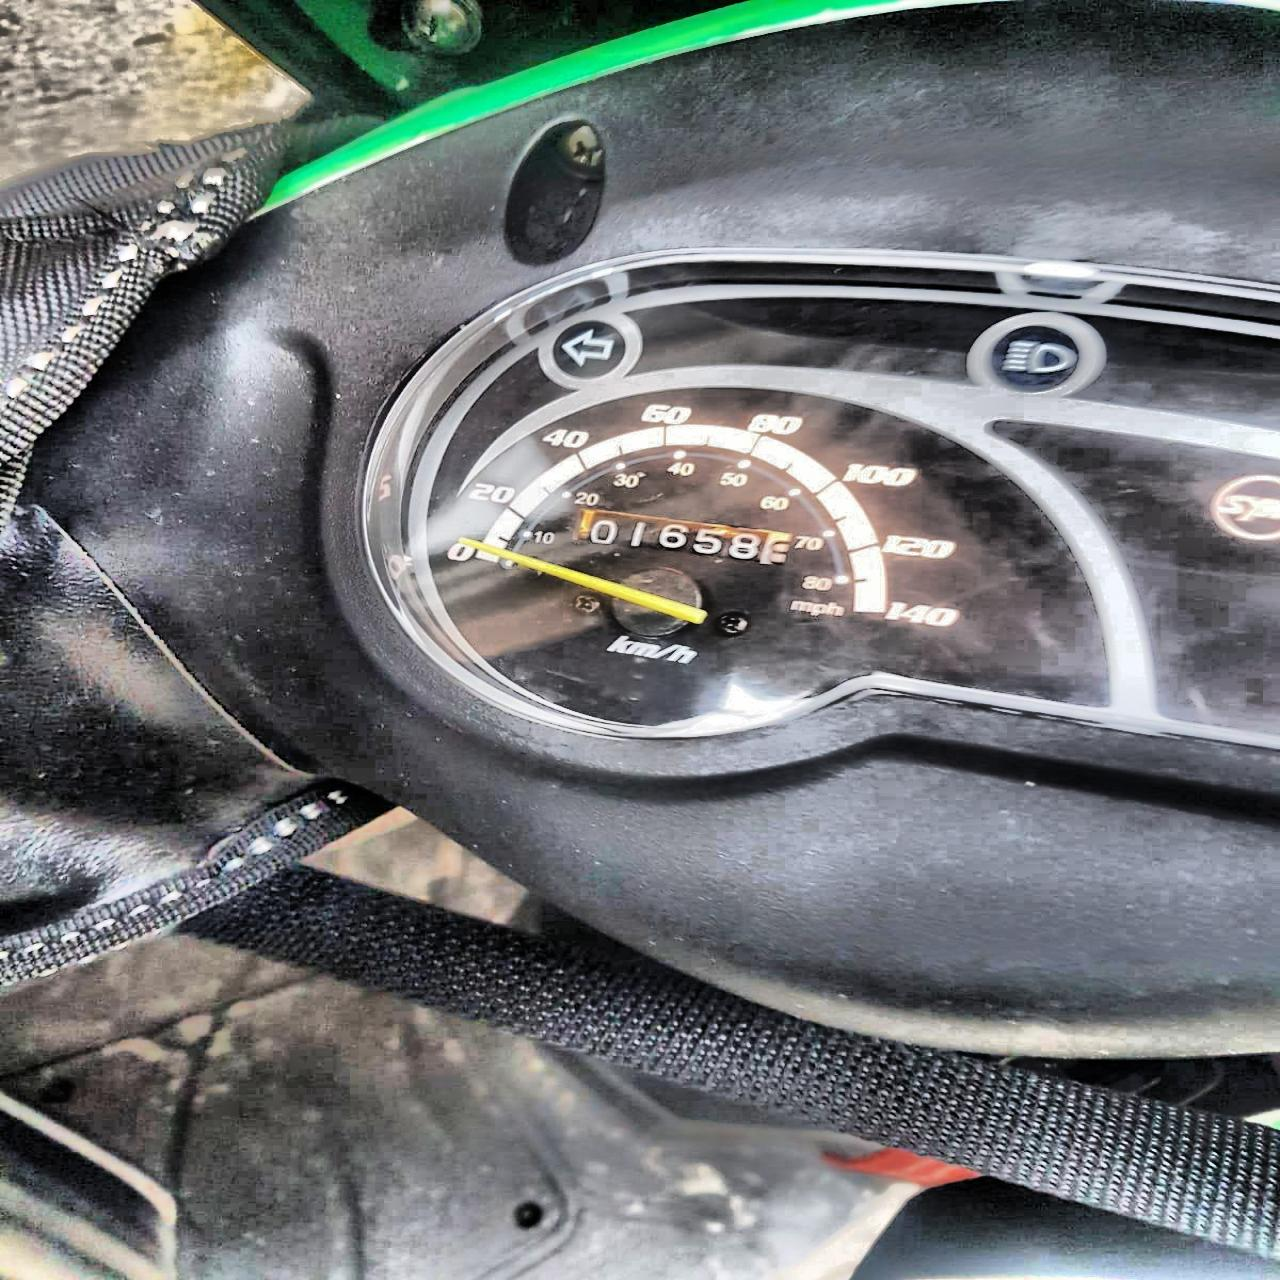0: (587, 515, 618, 547)
1: (626, 516, 648, 553)
5: (693, 523, 726, 560)
6: (658, 518, 688, 551)
8: (728, 529, 760, 564), (767, 538, 789, 566)
odometer: (570, 508, 797, 572)
